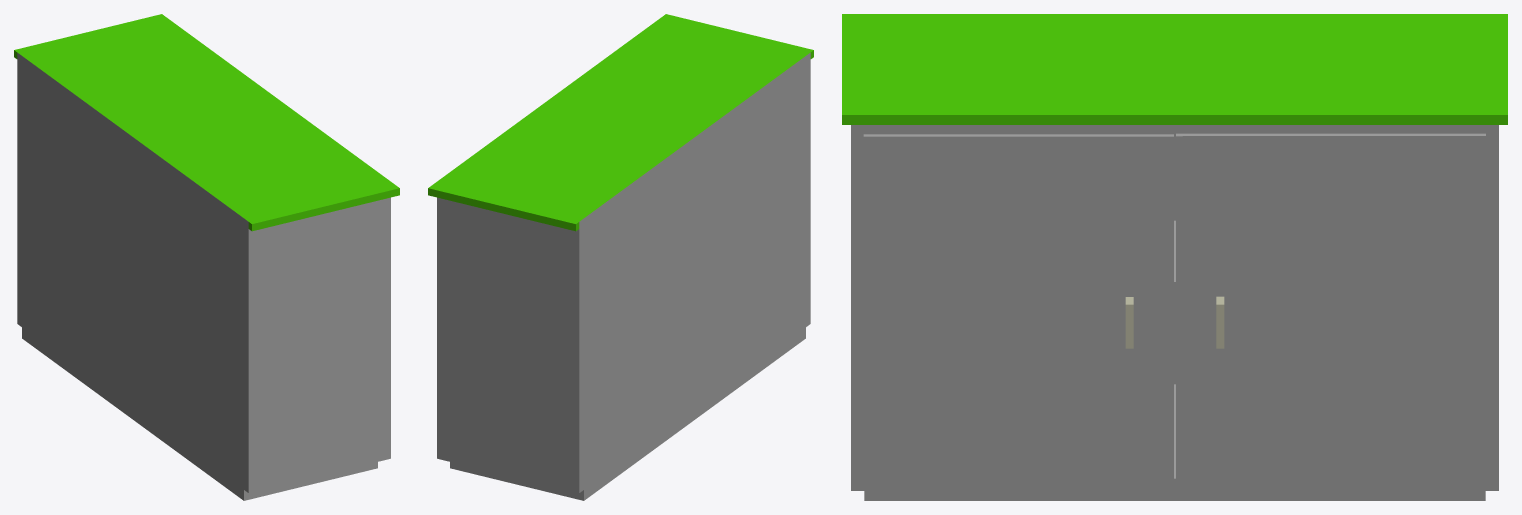
Rendered from Basecabinet.fbx.
3 renders of one model, left to right at view 1: azimuth 30°, elevation 25°; view 2: azimuth 150°, elevation 25°; view 3: azimuth 270°, elevation 25°, orthographic. The views are drawn at different scales.
Visible parts, largest first — view 1: Cabinet; view 2: Cabinet; view 3: DoorL, DoorR, Cabinet.
Part boxes in pixels (left/top/right/bottom): Cabinet: left=14, top=14, right=399, bottom=500; Cabinet: left=428, top=14, right=813, bottom=500; DoorL: left=863, top=134, right=1173, bottom=481; DoorR: left=1176, top=133, right=1485, bottom=481; Cabinet: left=842, top=14, right=1507, bottom=500.
Bounding box in the file's own units: 42 × 71.86 × 110.
